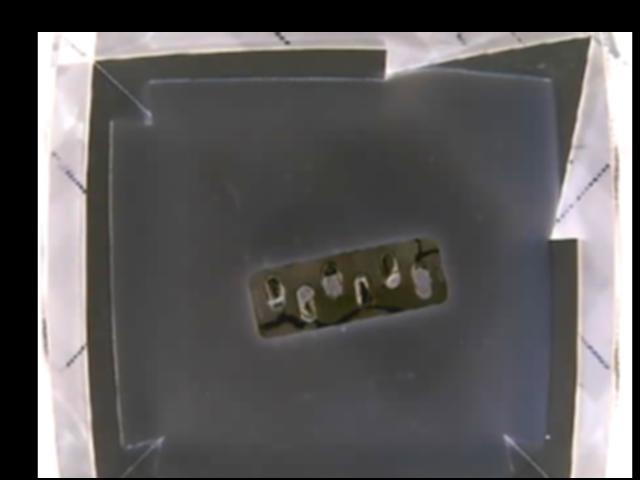Medicine: (245, 237, 447, 341)
